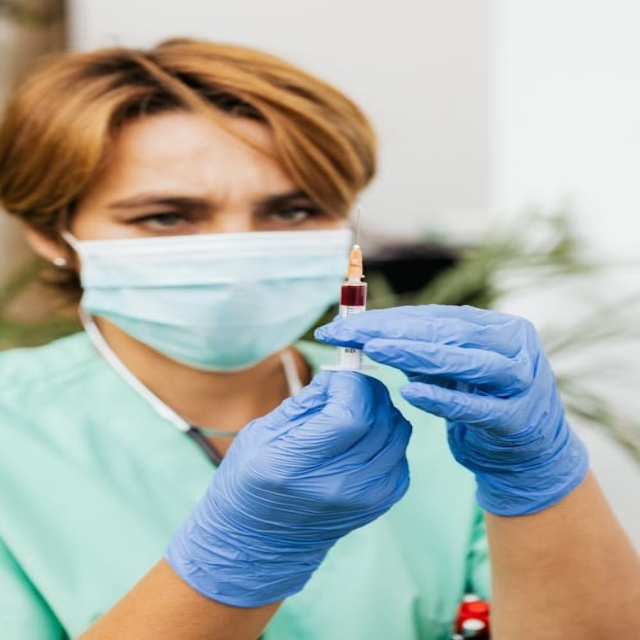Guantes: (155, 366, 416, 608), (312, 302, 596, 521)
Mascara: (61, 220, 356, 371)
Sin_gafas: (95, 179, 323, 233)
